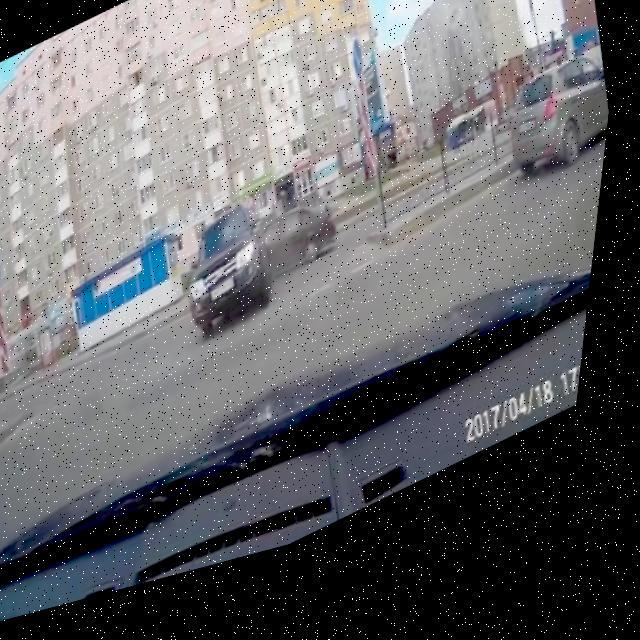Car Accident Detector - v4 Generation1 Exported: (174, 174, 362, 364)
